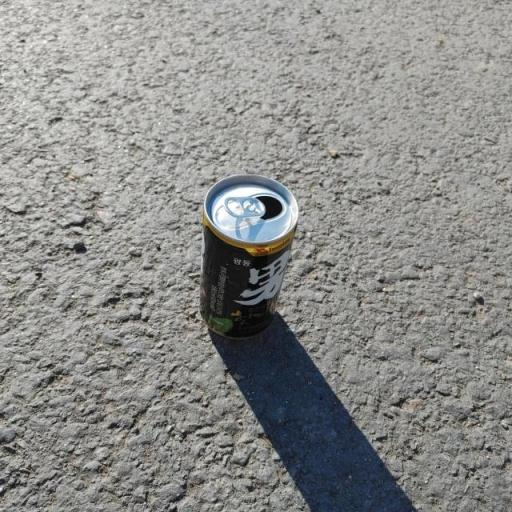metal: (158, 160, 332, 338)
